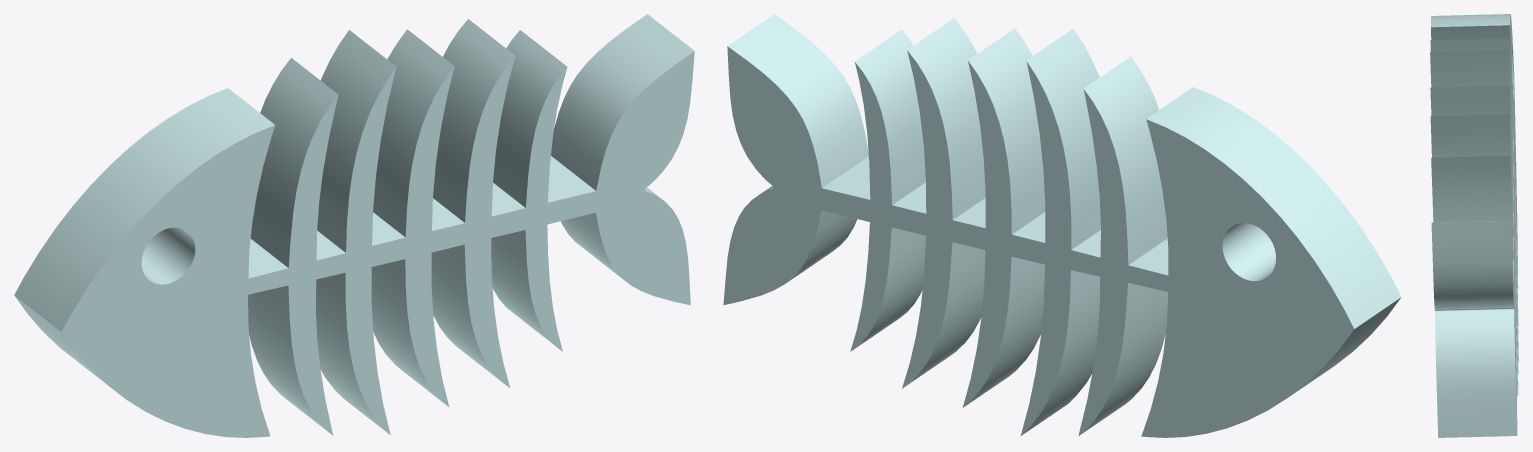
Rendered from gasi.gltf.
3 views of the same model, side by side, from view 1: azimuth 30°, elevation 25°; view 2: azimuth 150°, elevation 25°; view 3: azimuth 270°, elevation 25° (orthographic). The views are drawn at different scales.
Visible parts, largest first — view 1: Part2; view 2: Part2; view 3: Part2.
Part boxes in pixels (bbox=[...]): Part2: bbox=[14, 14, 694, 437]; Part2: bbox=[723, 14, 1401, 437]; Part2: bbox=[1430, 14, 1518, 437].
Bounding box in the file's own units: 23.29 × 13.23 × 3.39.
